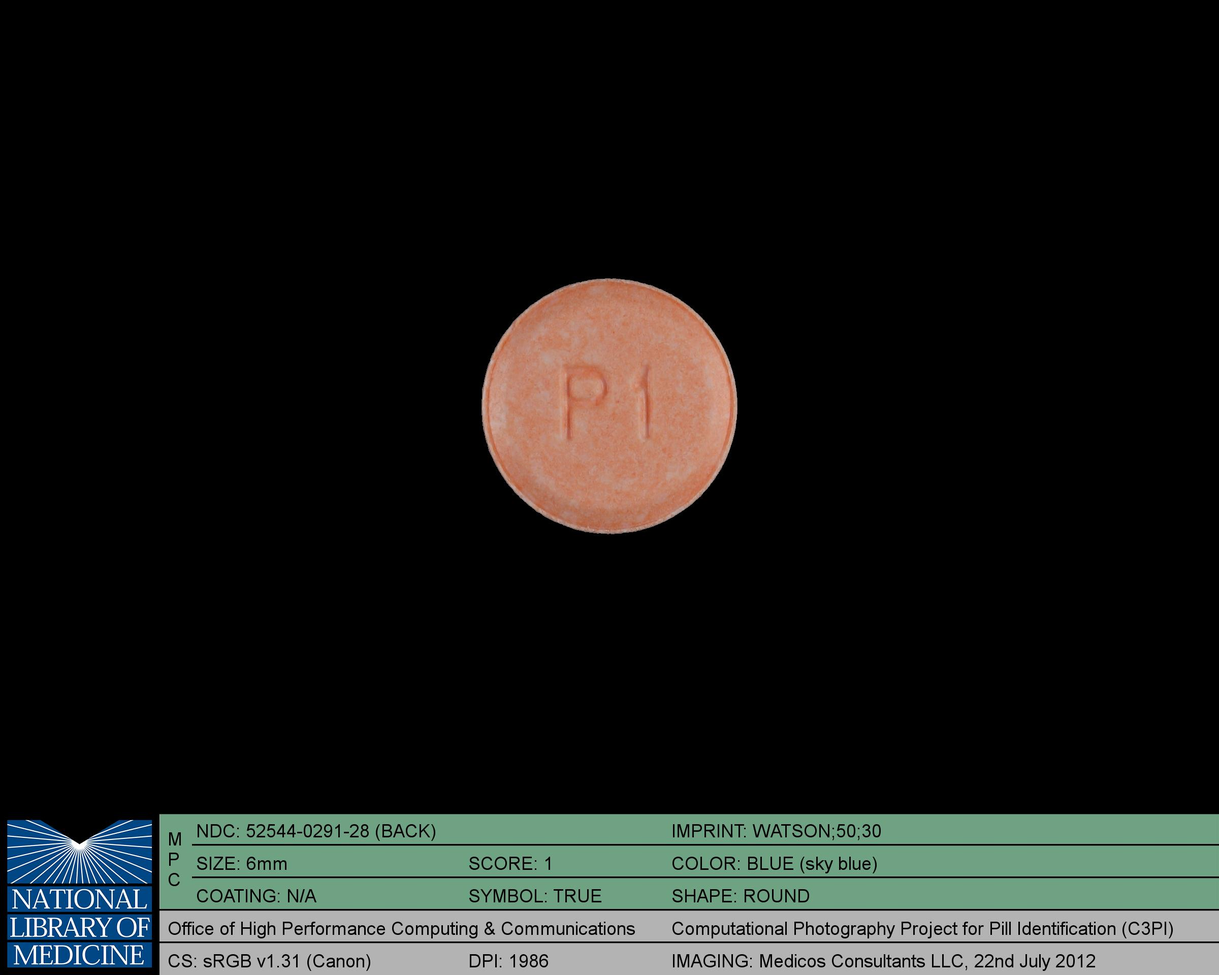Pill: (464, 264, 761, 554)
